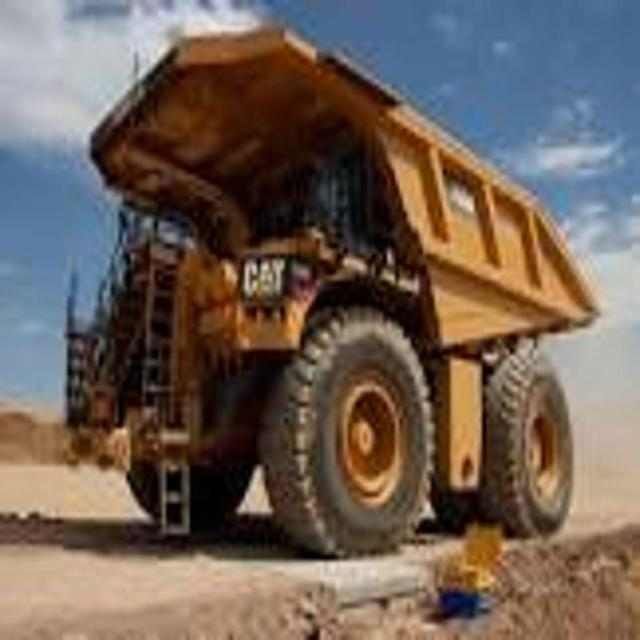dump_truck: (63, 22, 599, 585)
